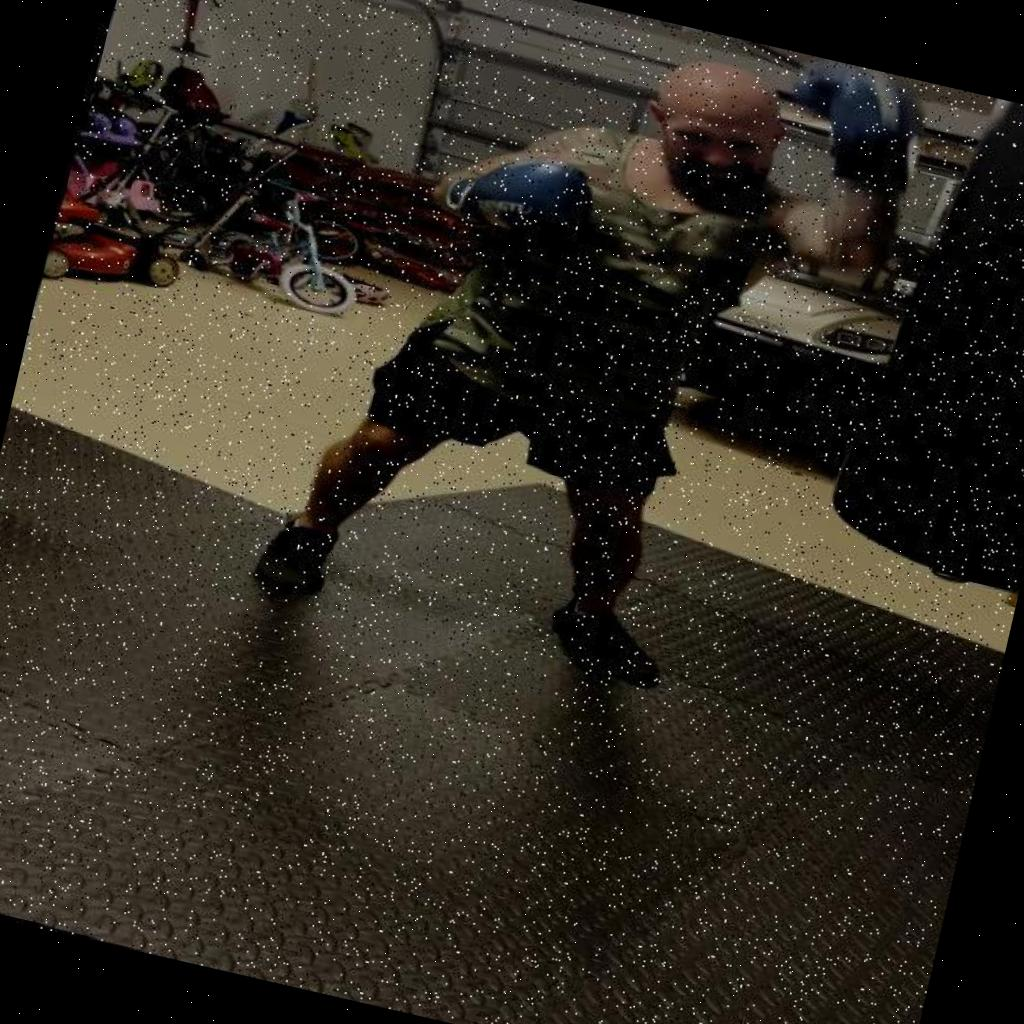bag: (839, 89, 1024, 630)
uppercut: (431, 0, 952, 381)
